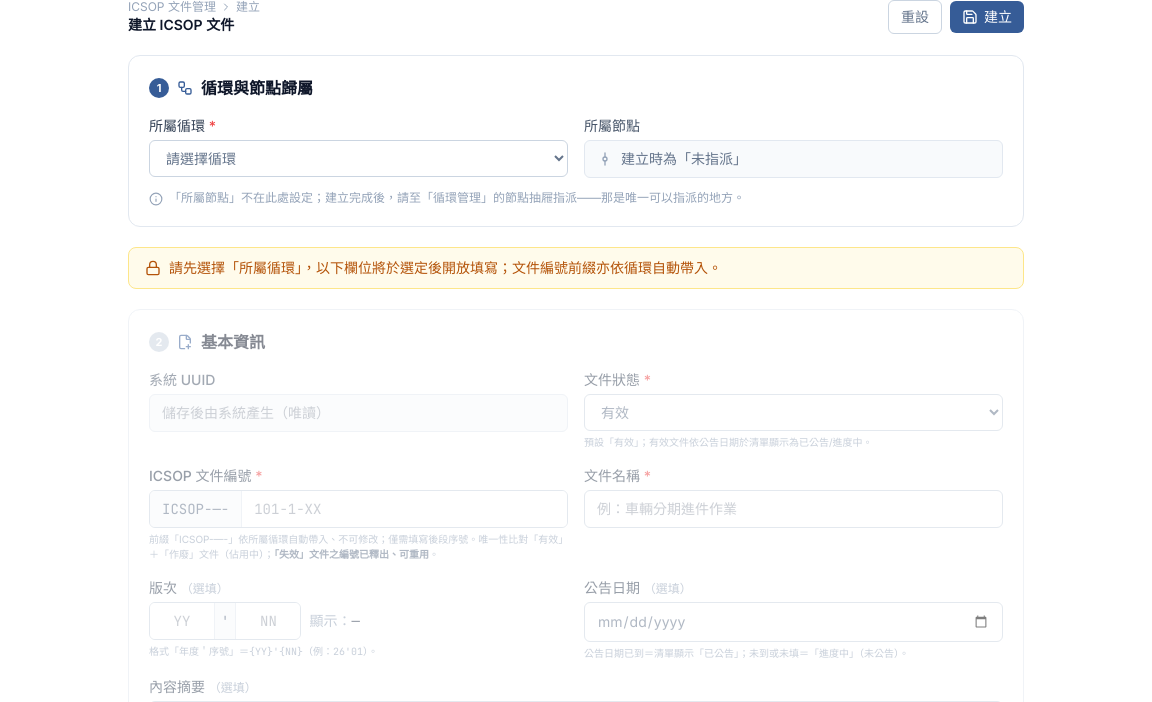
Scenario: DocumentCreatePage — 使用表單之編號顯示與搜尋（2026-08-26 UX ②） › 下拉選項顯示「{編號} {名稱}」；無編號者僅名稱（不得有前導空格或 null）
Select "銷售及收款循環" in the dropdown named "所屬循環" at point(358, 158), box x1=149 y1=140 x2=568 y2=177
(page scrolled)
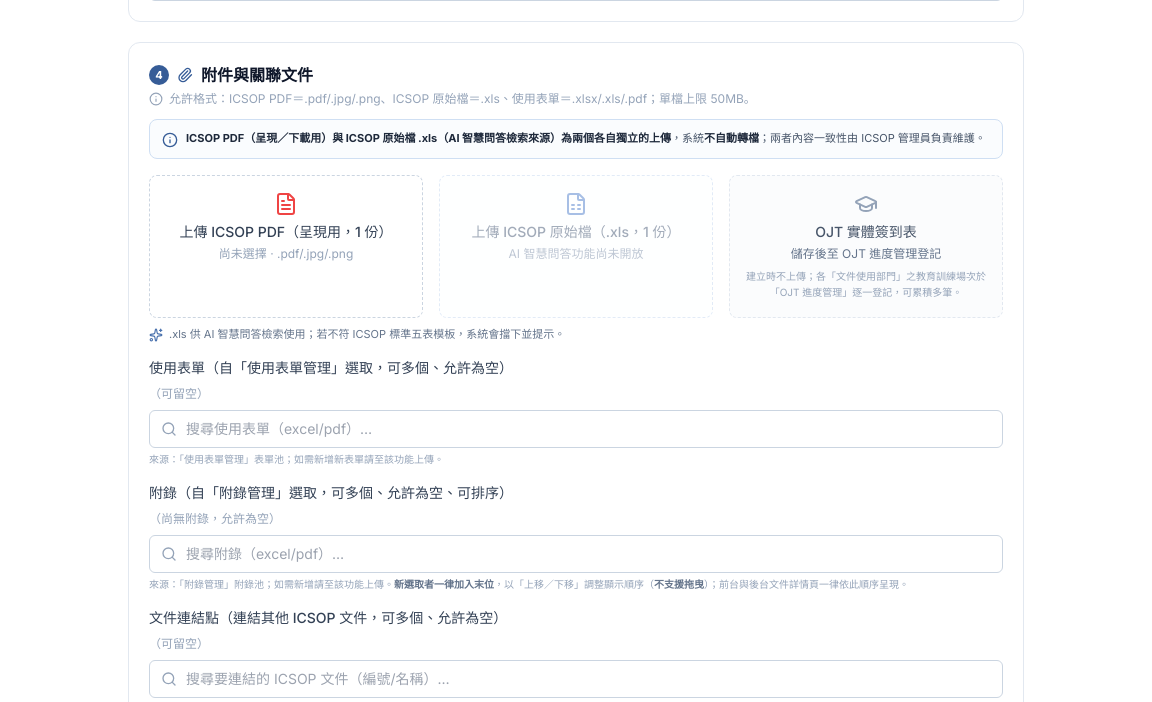
Click the dropdown labelled "使用表單（自「使用表單管理」選取，可多個、允許為空）" at point(576, 429), box x1=149 y1=410 x2=1003 y2=448
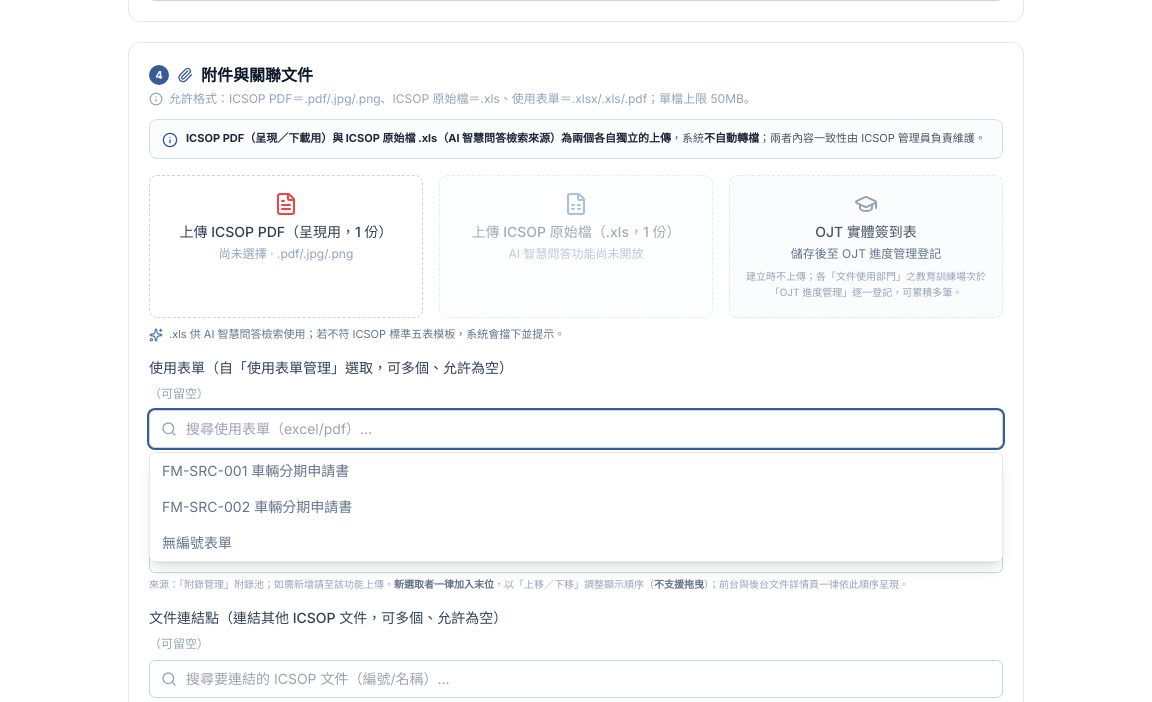
Expected: the option "FM-SRC-001 車輛分期申請書" is shown, x1=150 y1=453 x2=1002 y2=489
Expected: the option "FM-SRC-002 車輛分期申請書" is shown, x1=150 y1=489 x2=1002 y2=525
Expected: the option "無編號表單" is shown, x1=150 y1=525 x2=1002 y2=561
